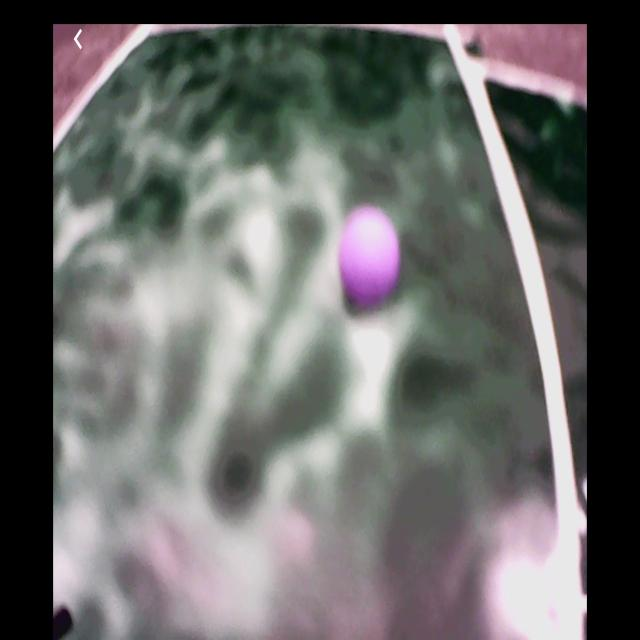ball: (341, 208, 403, 309)
